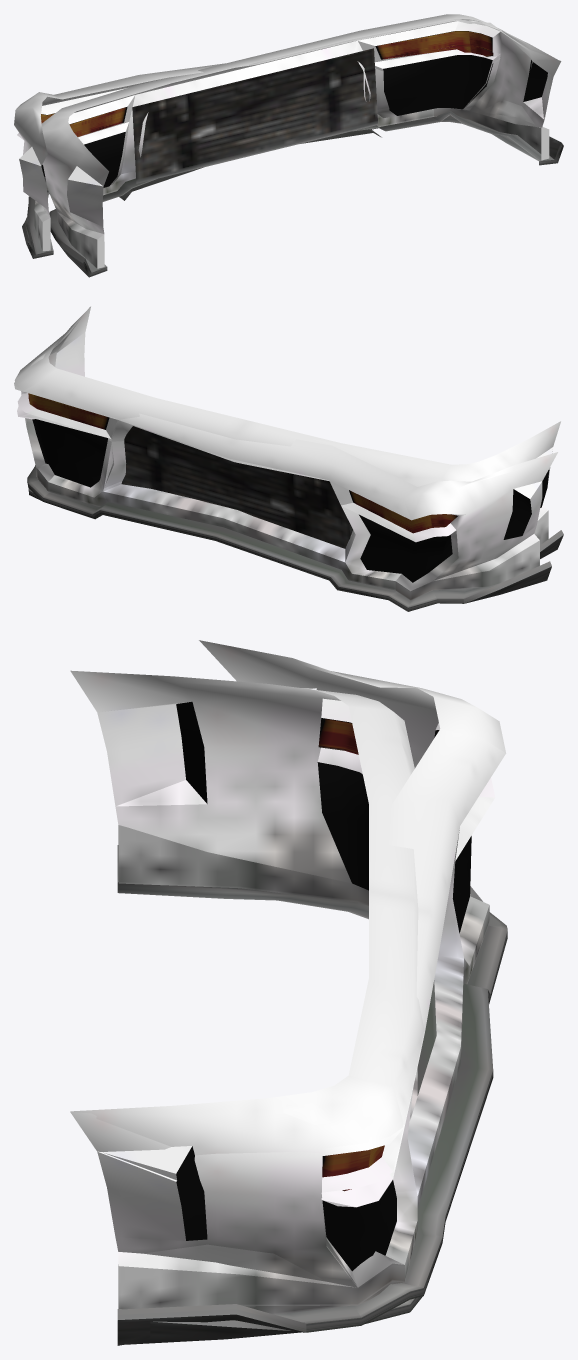
Rendered from fbmp_a_f.glb.
The picture shows the model from 3 angles, top to bottom: view 1: azimuth 30°, elevation 25°; view 2: azimuth 150°, elevation 25°; view 3: azimuth 270°, elevation 25°; orthographic projection. The views are drawn at different scales.
Parts seen in each view (by area): view 1: fbmp_a_f, fbmp_a_f_dam; view 2: fbmp_a_f_dam, fbmp_a_f; view 3: fbmp_a_f, fbmp_a_f_dam.
Boxes of the visible parts, x1,y1,x2,y2 form: fbmp_a_f: [41, 14, 562, 277]; fbmp_a_f_dam: [14, 19, 563, 258]; fbmp_a_f_dam: [14, 306, 557, 611]; fbmp_a_f: [14, 307, 563, 558]; fbmp_a_f: [70, 670, 441, 1344]; fbmp_a_f_dam: [70, 640, 507, 1345].
Size of the model in its own units: 2.11 by 0.4559 by 0.7928.
4 materials, 4 textured.
